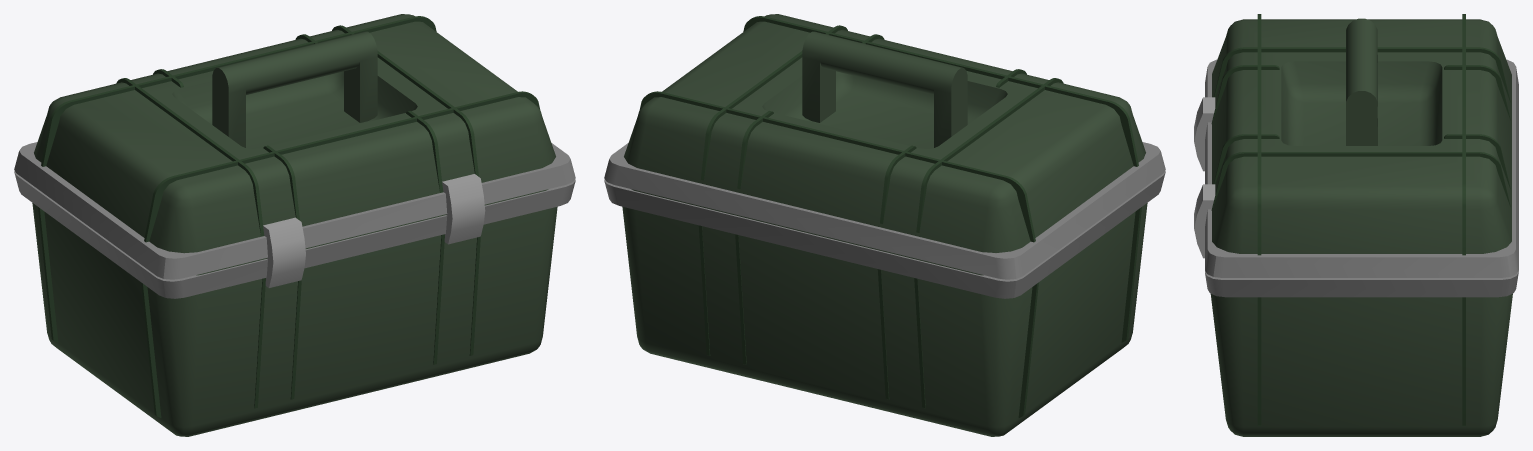
The picture shows the model from 3 angles, left to right: view 1: azimuth 30°, elevation 25°; view 2: azimuth 150°, elevation 25°; view 3: azimuth 270°, elevation 25°; orthographic projection.
Visible parts, largest first — view 1: 立方体, 立方体.001, 円柱, 立方体.005, 立方体.003, 立方体.002, 立方体.004; view 2: 立方体, 立方体.001, 円柱, 立方体.005, 立方体.002, 立方体.004; view 3: 立方体, 立方体.001, 円柱, 立方体.002, 立方体.005, 立方体.004, 立方体.003.
Boxes of the visible parts, x1,y1,x2,y2 form: 立方体: (32, 14, 557, 436); 立方体.001: (14, 142, 575, 298); 円柱: (212, 31, 377, 147); 立方体.005: (38, 16, 540, 417); 立方体.003: (263, 174, 485, 287); 立方体.002: (116, 25, 480, 408); 立方体.004: (153, 34, 444, 399); 立方体: (622, 14, 1147, 436); 立方体.001: (604, 142, 1165, 298); 円柱: (802, 31, 967, 147); 立方体.005: (639, 16, 1141, 417); 立方体.002: (698, 25, 1063, 408); 立方体.004: (735, 34, 1026, 399); 立方体: (1210, 19, 1512, 436); 立方体.001: (1205, 59, 1518, 297); 円柱: (1346, 18, 1377, 145); 立方体.002: (1211, 47, 1510, 210); 立方体.005: (1257, 14, 1465, 425); 立方体.004: (1211, 65, 1510, 189); 立方体.003: (1194, 97, 1215, 258).
Bounding box in the file's own units: 92.79 × 63.77 × 62.99.
